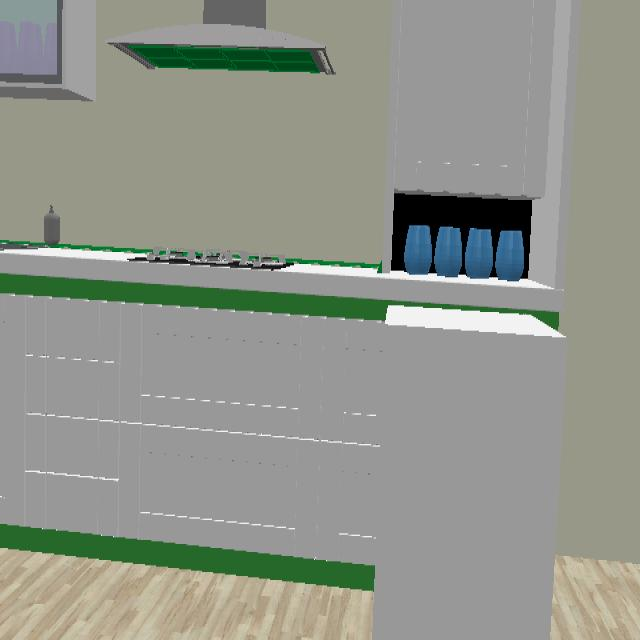cabinet: (0, 296, 388, 562), (390, 1, 555, 198)
countertop: (0, 247, 562, 319)
stove: (130, 247, 288, 269)
